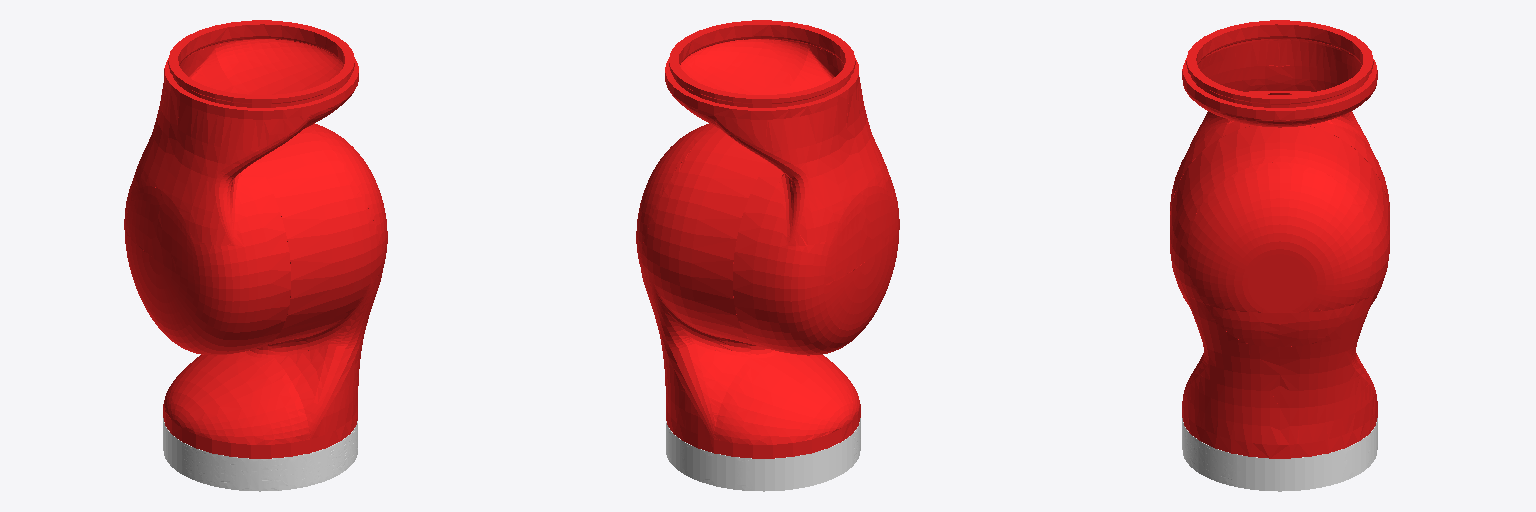
robot.urdf — T_invert_4th:
<?xml version="1.0" encoding="utf-8"?>
<!-- This URDF was automatically created by SolidWorks to URDF Exporter! Originally created by [author] ([email redacted]) 
     Commit Version: 1.5.1-0-g916b5db  Build Version: 1.5.7152.31018
     For more information, please see http://wiki.ros.org/sw_urdf_exporter -->
<robot
  name="T_invert_4th">
  <link
    name="VT_OutLink_4th">
    <inertial>
      <origin
        xyz="-0.0062199 0.11151 4.712E-05"
        rpy="0 0 0" />
      <mass
        value="0.5" />
      <inertia
        ixx="0.0043213"
        ixy="0.00020387"
        ixz="5.1881E-07"
        iyy="0.0020727"
        iyz="-4.834E-07"
        izz="0.0045007" />
    </inertial>
    <visual>
      <origin
        xyz="0 0 0"
        rpy="0 0 0" />
      <geometry>
        <mesh
          filename="package://T_invert_4th/meshes/VT_OutLink_4th.STL" />
      </geometry>
      <material
        name="">
        <color
          rgba="1 1 1 1" />
      </material>
    </visual>
    <collision>
      <origin
        xyz="0 0 0"
        rpy="0 0 0" />
      <geometry>
        <mesh
          filename="package://T_invert_4th/meshes/VT_OutLink_4th.STL" />
      </geometry>
    </collision>
  </link>
  <link
    name="T_OutLink_4th">
    <inertial>
      <origin
        xyz="-0.017304 0.030846 2.9874E-05"
        rpy="0 0 0" />
      <mass
        value="1" />
      <inertia
        ixx="0.0012074"
        ixy="-0.00030836"
        ixz="-2.8266E-07"
        iyy="0.00068337"
        iyz="-3.7727E-07"
        izz="0.0011522" />
    </inertial>
    <visual>
      <origin
        xyz="0 0 0"
        rpy="0 0 0" />
      <geometry>
        <mesh
          filename="package://T_invert_4th/meshes/T_OutLink_4th.STL" />
      </geometry>
      <material
        name="">
        <color
          rgba="1 0.16863 0.16863 1" />
      </material>
    </visual>
    <collision>
      <origin
        xyz="0 0 0"
        rpy="0 0 0" />
      <geometry>
        <mesh
          filename="package://T_invert_4th/meshes/T_OutLink_4th.STL" />
      </geometry>
    </collision>
  </link>
  <joint
    name="V_OutJoint"
    type="fixed">
    <origin
      xyz="-0.0145 0 0.1105"
      rpy="1.5708 0 0" />
    <parent
      link="VT_OutLink_4th" />
    <child
      link="T_OutLink_4th" />
    <axis
      xyz="0 0 0" />
  </joint>
  <link
    name="T_InLink_4th">
    <inertial>
      <origin
        xyz="0.014606 -0.023405 6.7266E-05"
        rpy="0 0 0" />
      <mass
        value="1.2" />
      <inertia
        ixx="0.0016912"
        ixy="-8.2481E-05"
        ixz="-1.3704E-06"
        iyy="0.00075608"
        iyz="-5.6454E-07"
        izz="0.0014025" />
    </inertial>
    <visual>
      <origin
        xyz="0 0 0"
        rpy="0 0 0" />
      <geometry>
        <mesh
          filename="package://T_invert_4th/meshes/T_InLink_4th.STL" />
      </geometry>
      <material
        name="">
        <color
          rgba="1 0.16863 0.16863 1" />
      </material>
    </visual>
    <collision>
      <origin
        xyz="0 0 0"
        rpy="0 0 0" />
      <geometry>
        <mesh
          filename="package://T_invert_4th/meshes/T_InLink_4th.STL" />
      </geometry>
    </collision>
  </link>
  <joint
    name="T_Joint"
    type="revolute">
    <origin
      xyz="0.0145 0 0"
      rpy="0 0 0" />
    <parent
      link="T_OutLink_4th" />
    <child
      link="T_InLink_4th" />
    <axis
      xyz="-1 0 0" />
    <limit
      lower="-2.07"
      upper="2.07"
      effort="0"
      velocity="0" />
  </joint>
  <link
    name="VT_InLink_4th">
    <inertial>
      <origin
        xyz="-0.0062199 -4.712E-05 0.11741"
        rpy="0 0 0" />
      <mass
        value="0.5" />
      <inertia
        ixx="0.0043213"
        ixy="-5.1881E-07"
        ixz="0.00020387"
        iyy="0.0045007"
        iyz="4.834E-07"
        izz="0.0020727" />
    </inertial>
    <visual>
      <origin
        xyz="0 0 0"
        rpy="0 0 0" />
      <geometry>
        <mesh
          filename="package://T_invert_4th/meshes/VT_InLink_4th.STL" />
      </geometry>
      <material
        name="">
        <color
          rgba="1 1 1 1" />
      </material>
    </visual>
    <collision>
      <origin
        xyz="0 0 0"
        rpy="0 0 0" />
      <geometry>
        <mesh
          filename="package://T_invert_4th/meshes/VT_InLink_4th.STL" />
      </geometry>
    </collision>
  </link>
  <joint
    name="V_InJoint"
    type="fixed">
    <origin
      xyz="0 -0.1164 0"
      rpy="-1.5708 0 0" />
    <parent
      link="T_InLink_4th" />
    <child
      link="VT_InLink_4th" />
    <axis
      xyz="0 0 0" />
  </joint>
</robot>

--- Render facts (derived) ---
The picture shows the robot from 3 angles, left to right: view 1: azimuth 30°, elevation 25°; view 2: azimuth 150°, elevation 25°; view 3: azimuth 270°, elevation 25°; orthographic projection.
Robot: T_invert_4th — 4 links, 3 joints (1 revolute, 2 fixed); root link VT_OutLink_4th; default pose: every joint at zero.
Links seen in each view (by area): view 1: T_OutLink_4th, T_InLink_4th, VT_InLink_4th, VT_OutLink_4th; view 2: T_OutLink_4th, T_InLink_4th, VT_InLink_4th, VT_OutLink_4th; view 3: T_InLink_4th, T_OutLink_4th, VT_InLink_4th, VT_OutLink_4th.
Boxes of the visible links, bbox=[...] form: T_OutLink_4th: bbox=[124, 20, 358, 355]; T_InLink_4th: bbox=[163, 123, 387, 458]; VT_InLink_4th: bbox=[163, 429, 357, 491]; VT_OutLink_4th: bbox=[163, 418, 357, 480]; T_OutLink_4th: bbox=[665, 20, 899, 355]; T_InLink_4th: bbox=[636, 123, 860, 458]; VT_InLink_4th: bbox=[666, 433, 860, 491]; VT_OutLink_4th: bbox=[666, 418, 860, 474]; T_InLink_4th: bbox=[1170, 125, 1389, 458]; T_OutLink_4th: bbox=[1170, 20, 1389, 214]; VT_InLink_4th: bbox=[1182, 431, 1377, 491]; VT_OutLink_4th: bbox=[1182, 418, 1377, 480].
Size in the robot's own frame: 0.1221 by 0.113 by 0.221 metres.
4 mesh visuals loaded from 4 distinct referenced files (4 binary STL).